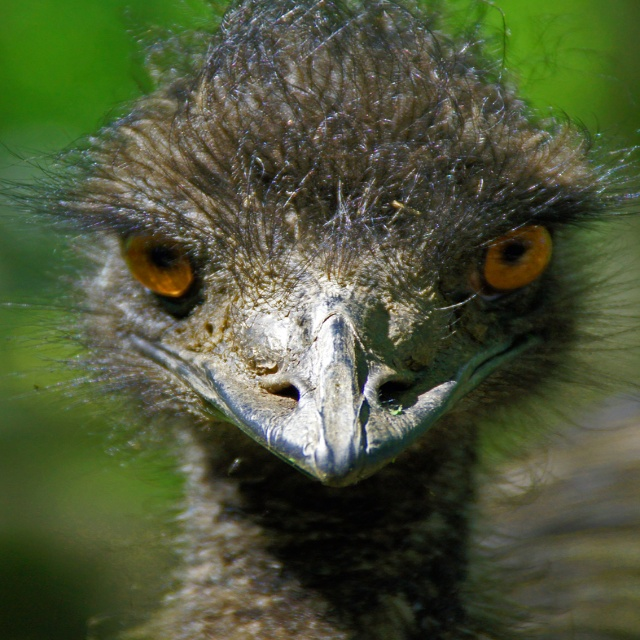Ostrich: (9, 0, 638, 639)
